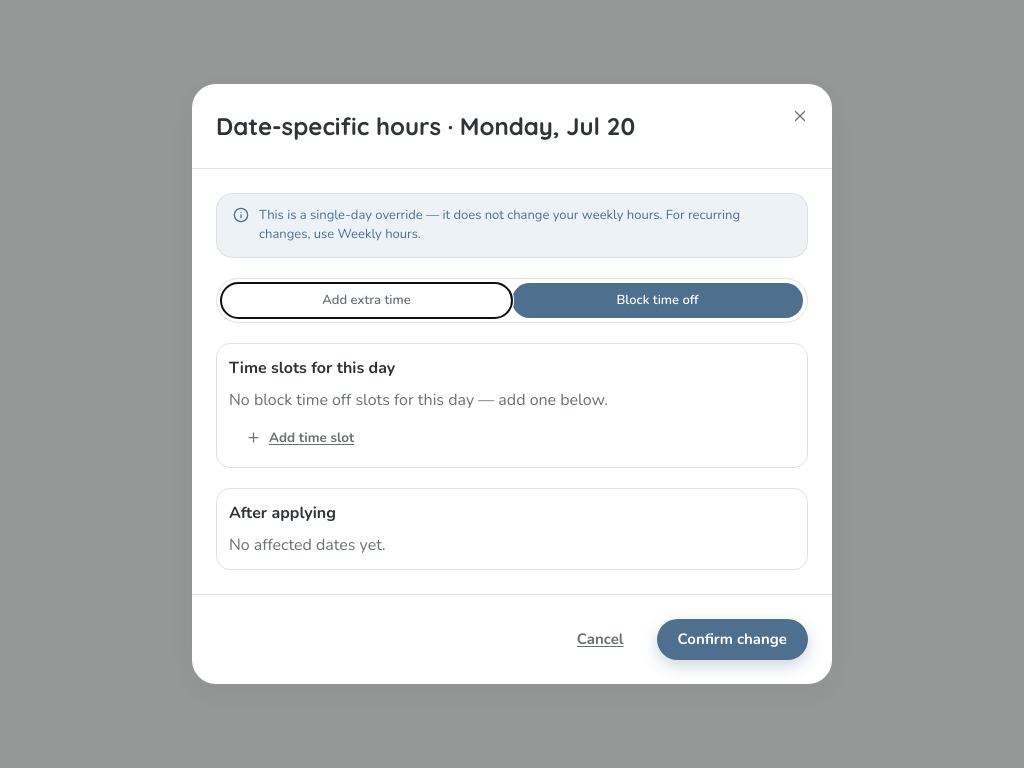
DateOverrideModal — defensive fallback when toWindowMin throws while building the confirm payload › shows a generic error and never submits when toWindowMin unexpectedly throws exactly at Confirm-time
This screenshot has width=1024, height=768.
Click the button "Add time slot" at (300, 438), box [229,420,371,455]
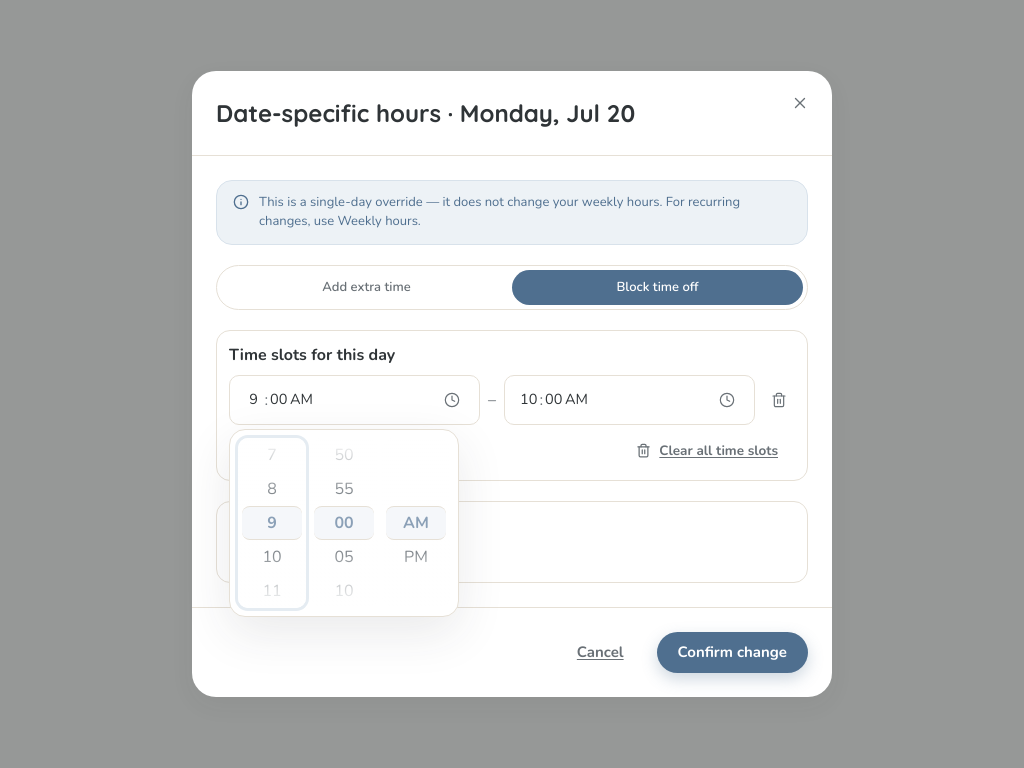
Click the button "Confirm change" at (732, 653), box [657,632,808,673]
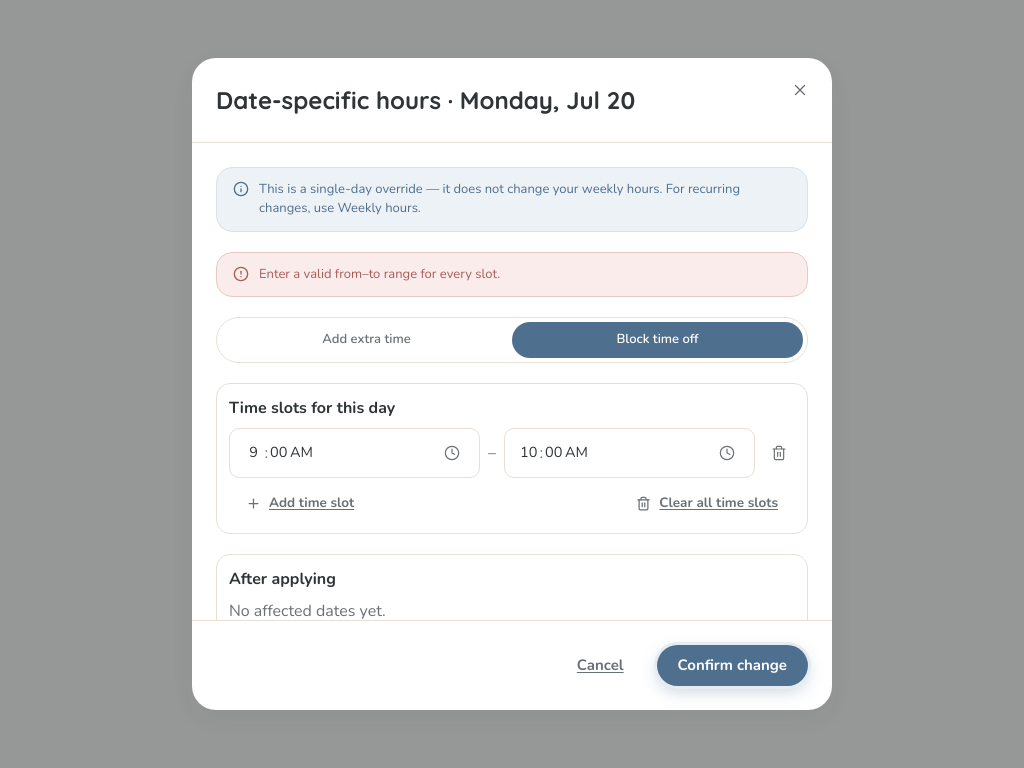
Result: the text "Enter a valid from–to range for every slot." is shown at [259,265,500,283]
